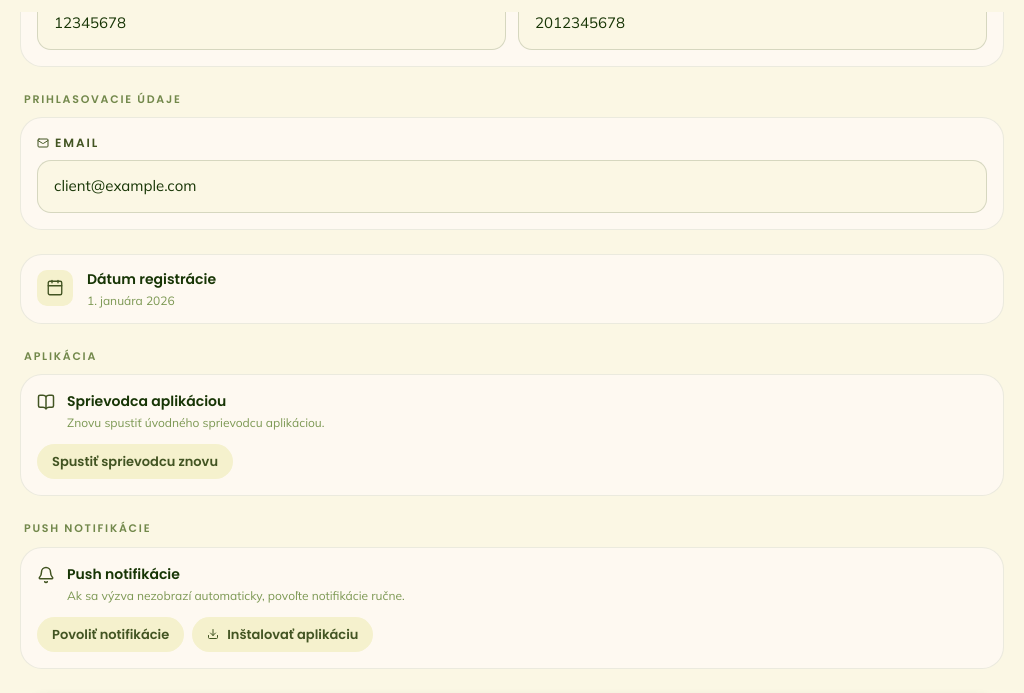
Test: ProfilePage › enables push notifications successfully
(page scrolled)
Click the button "Povoliť notifikácie".
click(111, 634)  # box [37,617,184,652]
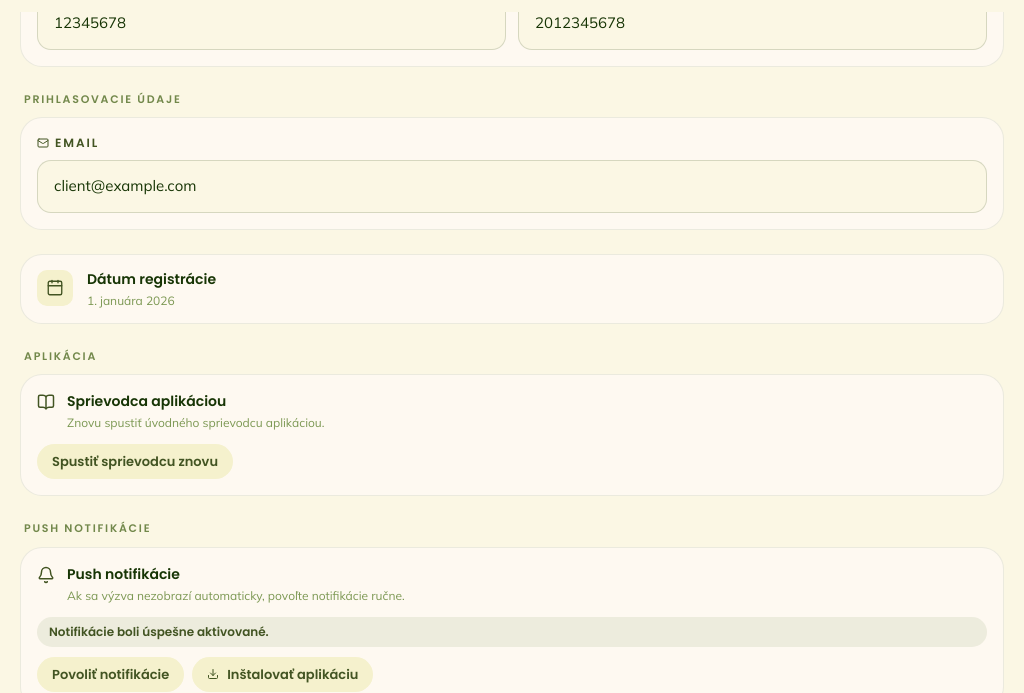
Expected: the text "Notifikácie boli úspešne aktivované." is shown, [37,617,987,647]
